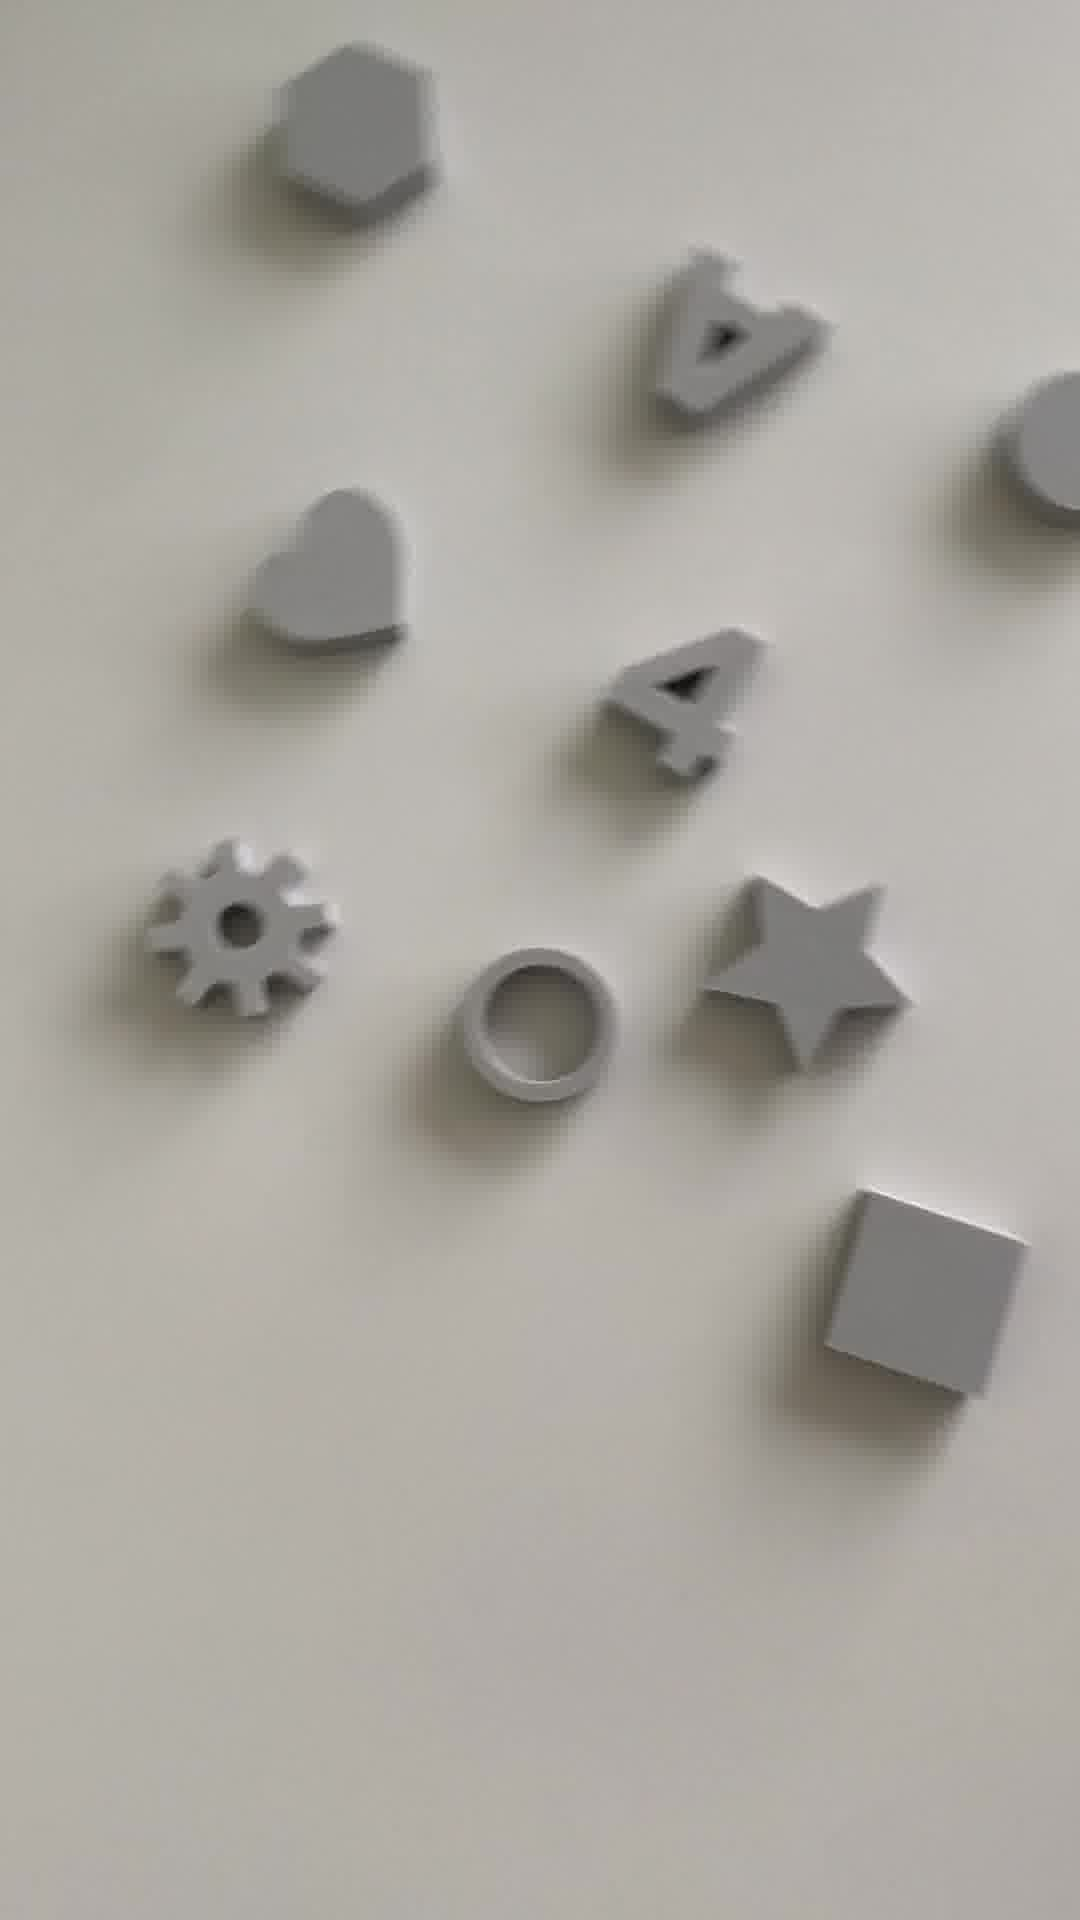Gray A-letter: (649, 265, 825, 430)
Gray circle: (1000, 363, 1080, 520)
Gray four: (585, 620, 781, 796)
Gray gear: (149, 832, 335, 1038)
Gray heart: (243, 481, 426, 663)
Gray hexagon: (258, 44, 444, 228)
Gray ring: (459, 945, 632, 1116)
Gray square: (811, 1180, 1033, 1414)
Gray star: (688, 857, 910, 1071)
